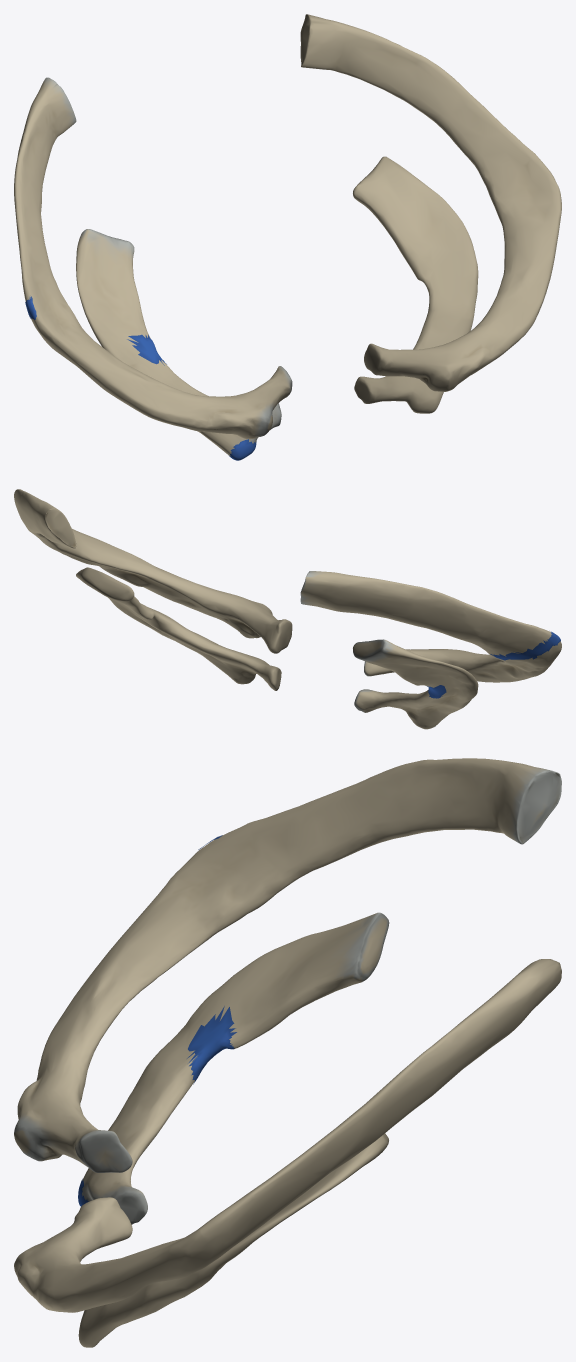
Rendered from costae-1-2.glb.
The picture shows the model from 3 angles, top to bottom: view 1: azimuth 30°, elevation 25°; view 2: azimuth 150°, elevation 25°; view 3: azimuth 270°, elevation 25°; orthographic projection. The views are drawn at different scales.
Parts seen in each view (by area): view 1: FJ3229, FJ3336, FJ3228, FJ3334, costae-1-2__tuberositas-serrati, insertio__lisfranc-sulci__FJ1592; view 2: FJ3229, costae-1-2__tuberositas-serrati, FJ3334, FJ3336, FJ3228, insertio__tuberositas-serrati__FJ1594; view 3: FJ3336, FJ3229, FJ3334, FJ3228, insertio__lisfranc-sulci__FJ1592, costae-1-2__lisfranc-sulci, costae-1-2__caput-collum, costae-1-2__tuberositas-serrati.
Boxes of the visible parts, x1=… form: FJ3229: x1=300, y1=14, x2=561, y2=391; FJ3336: x1=19, y1=77, x2=292, y2=439; FJ3228: x1=353, y1=156, x2=478, y2=413; FJ3334: x1=76, y1=229, x2=245, y2=455; costae-1-2__tuberositas-serrati: x1=14, y1=115, x2=36, y2=318; insertio__lisfranc-sulci__FJ1592: x1=127, y1=334, x2=166, y2=365; FJ3229: x1=14, y1=489, x2=292, y2=653; costae-1-2__tuberositas-serrati: x1=338, y1=578, x2=556, y2=656; FJ3334: x1=353, y1=639, x2=478, y2=729; FJ3336: x1=300, y1=571, x2=561, y2=682; FJ3228: x1=76, y1=567, x2=281, y2=690; insertio__tuberositas-serrati__FJ1594: x1=490, y1=631, x2=560, y2=660; FJ3336: x1=14, y1=758, x2=561, y2=1172; FJ3229: x1=14, y1=959, x2=561, y2=1312; FJ3334: x1=83, y1=912, x2=389, y2=1224; FJ3228: x1=78, y1=1133, x2=388, y2=1347; insertio__lisfranc-sulci__FJ1592: x1=187, y1=1006, x2=236, y2=1084; costae-1-2__lisfranc-sulci: x1=158, y1=974, x2=371, y2=1131; costae-1-2__caput-collum: x1=82, y1=1179, x2=145, y2=1224; costae-1-2__tuberositas-serrati: x1=199, y1=758, x2=482, y2=850.
Bounding box in the file's own units: 193 × 97.12 × 117.
